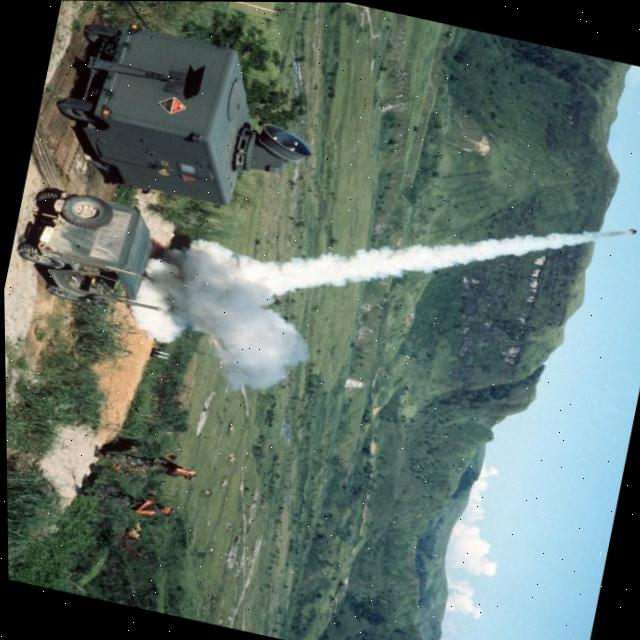missile: (624, 220, 640, 238)
